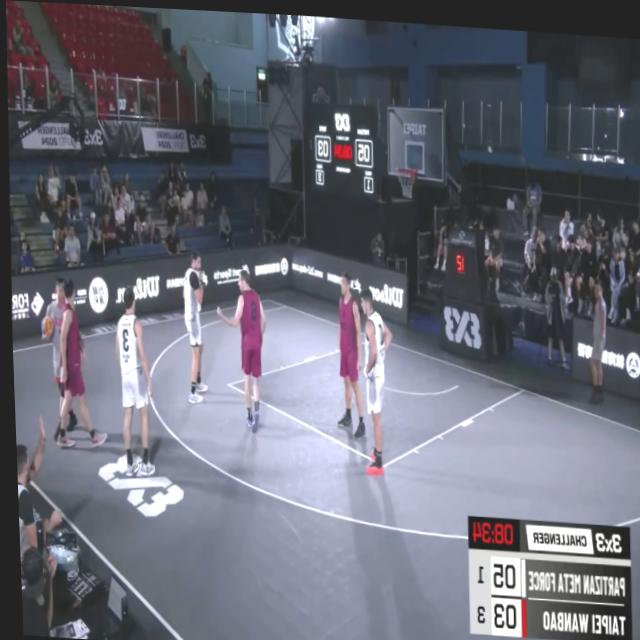ball: (38, 312, 53, 344)
hoop: (394, 160, 418, 198)
player: (46, 280, 110, 453), (210, 261, 268, 429), (110, 279, 156, 478), (324, 265, 368, 442), (356, 281, 395, 470), (177, 252, 210, 407)
